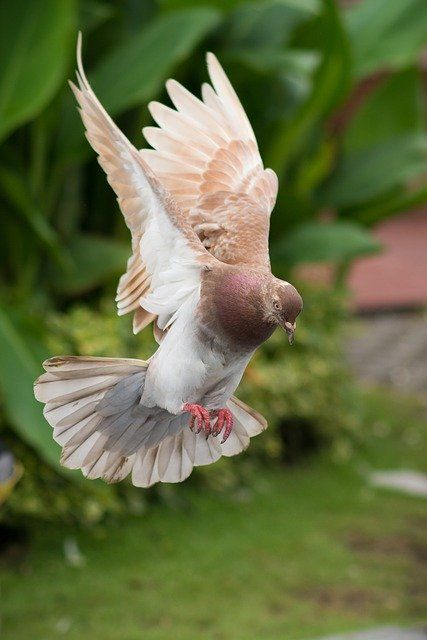bird: (28, 13, 317, 502)
